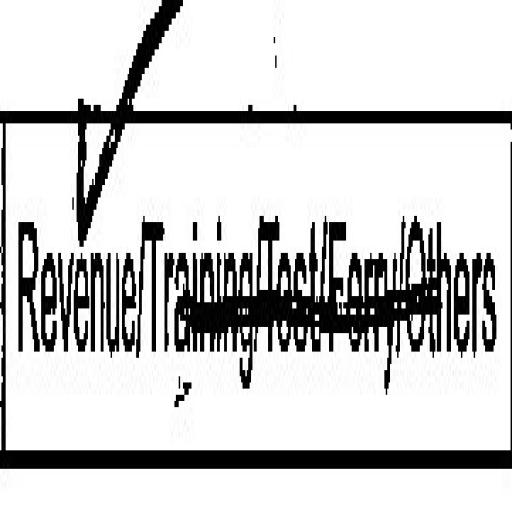check: (0, 0, 142, 501)
